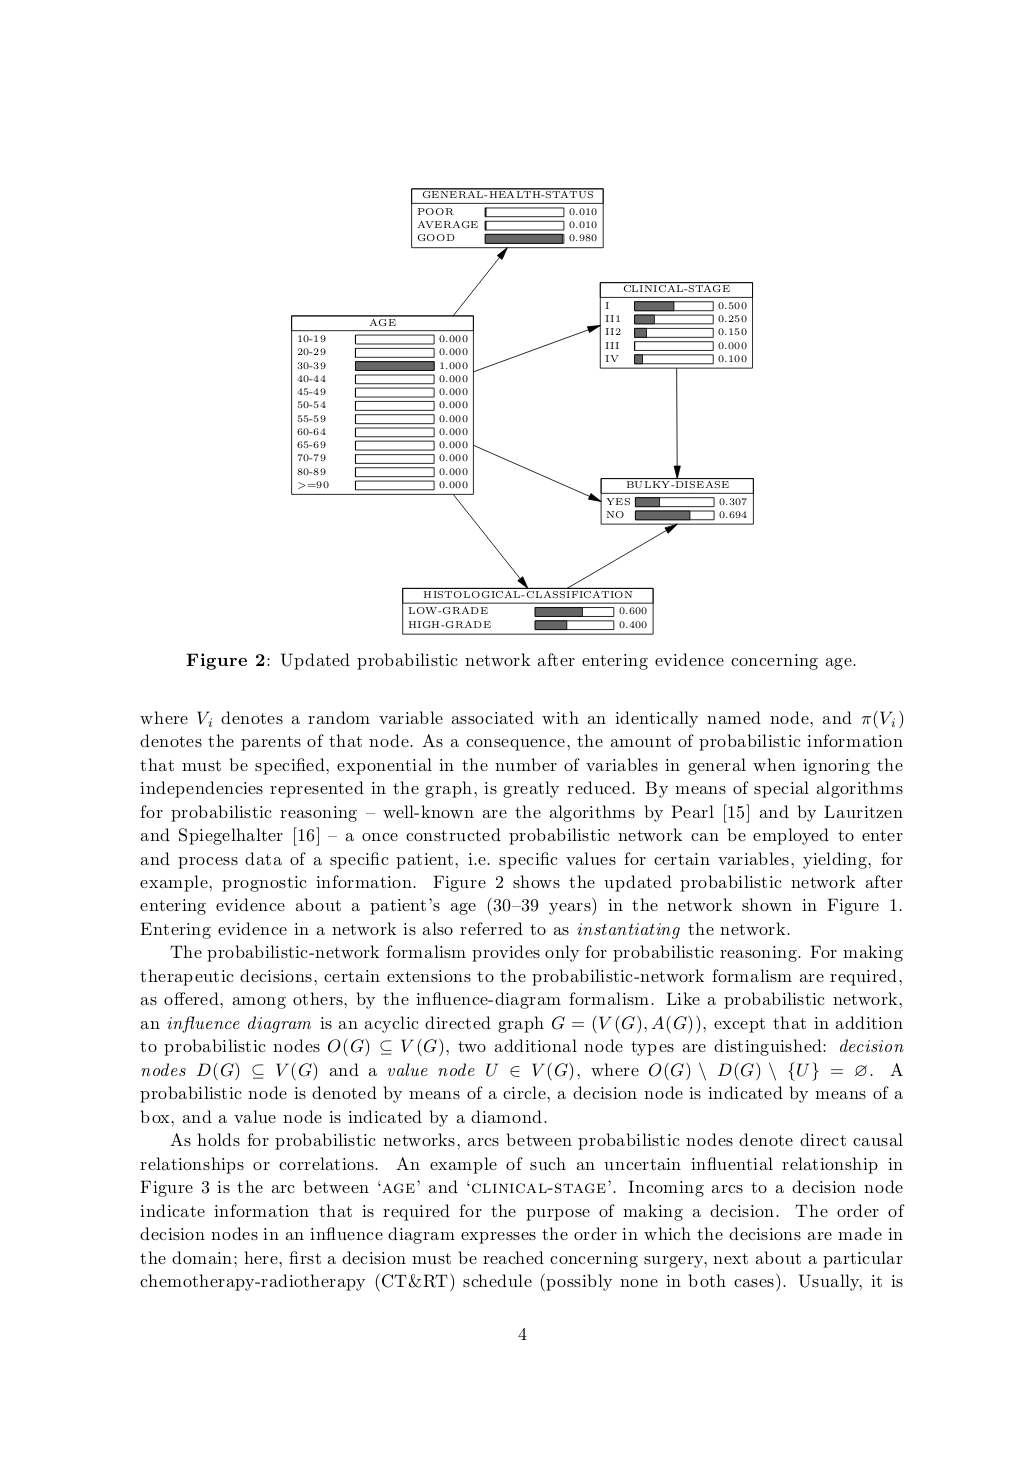figure: (291, 187, 753, 635)
